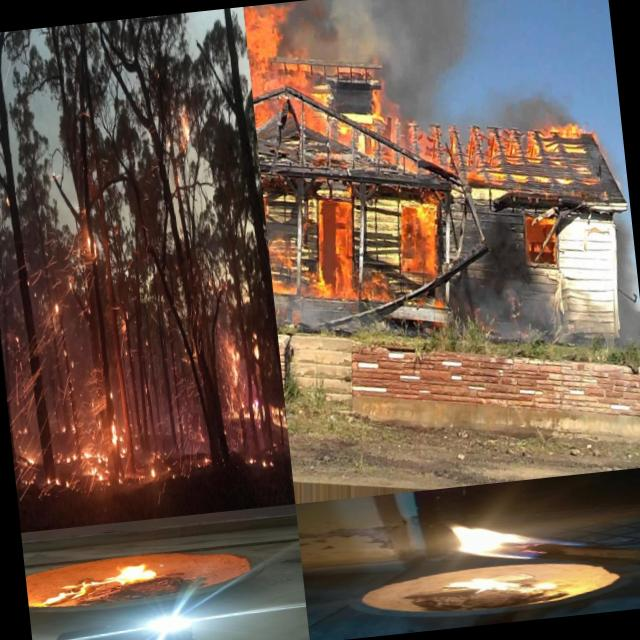fire: (261, 160, 445, 284), (250, 61, 392, 197), (431, 103, 594, 192), (430, 501, 584, 569), (31, 558, 160, 604), (334, 268, 443, 317), (12, 443, 82, 502), (243, 2, 295, 77), (385, 116, 434, 182), (218, 322, 248, 426), (452, 570, 554, 600), (108, 412, 132, 489), (250, 395, 288, 435), (79, 442, 111, 488), (176, 100, 194, 148), (242, 449, 274, 476), (250, 324, 264, 368), (144, 452, 160, 488), (193, 447, 212, 477), (84, 228, 100, 262), (52, 295, 59, 319)
smoke: (285, 0, 500, 70), (448, 272, 594, 354), (380, 54, 464, 120), (609, 217, 640, 355), (273, 289, 343, 327)
